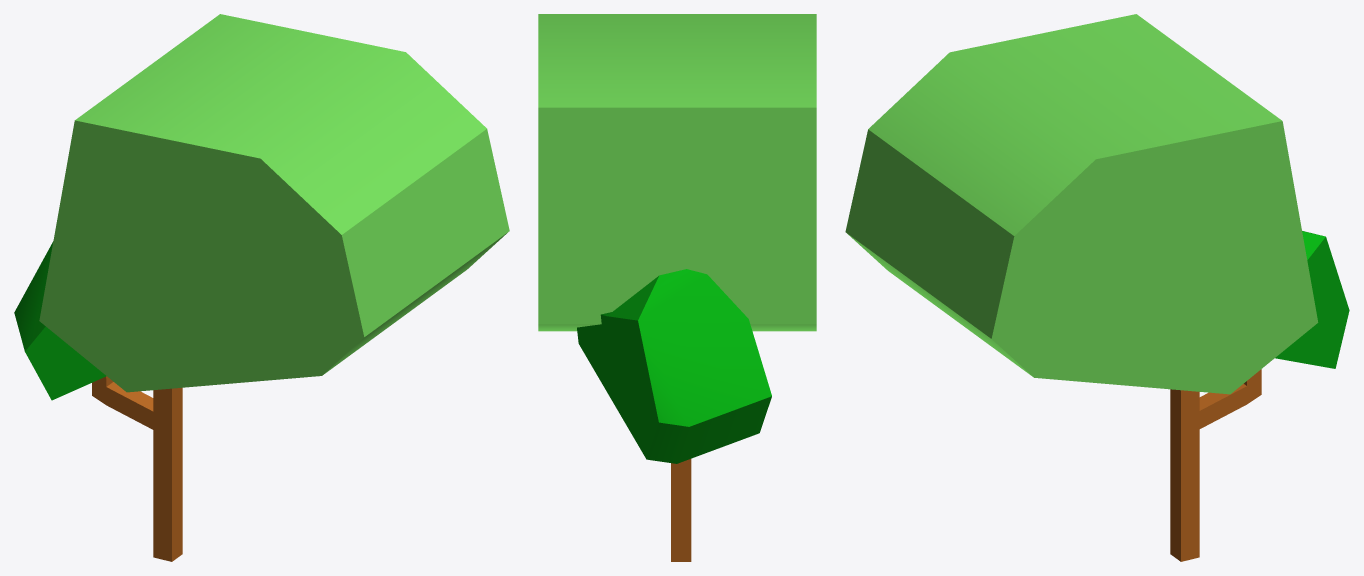
The model's file is arbre3.FBX.
The picture shows the model from 3 angles, left to right: view 1: azimuth 30°, elevation 25°; view 2: azimuth 150°, elevation 25°; view 3: azimuth 270°, elevation 25°; orthographic projection. The views are drawn at different scales.
Parts seen in each view (by area): view 1: Box244, Box246, Box245; view 2: Box244, Box245, Box246; view 3: Box244, Box246, Box245.
Part boxes in pixels (x1,y1,x2,y2): Box244: (39,14,509,392); Box246: (92,376,182,561); Box245: (14,241,106,400); Box244: (538,14,816,331); Box245: (577,269,771,463); Box246: (671,459,691,561); Box244: (845,14,1318,394); Box246: (1170,369,1261,561); Box245: (1275,231,1349,368).
Bounding box in the file's own units: 97.04 × 119 × 111.
